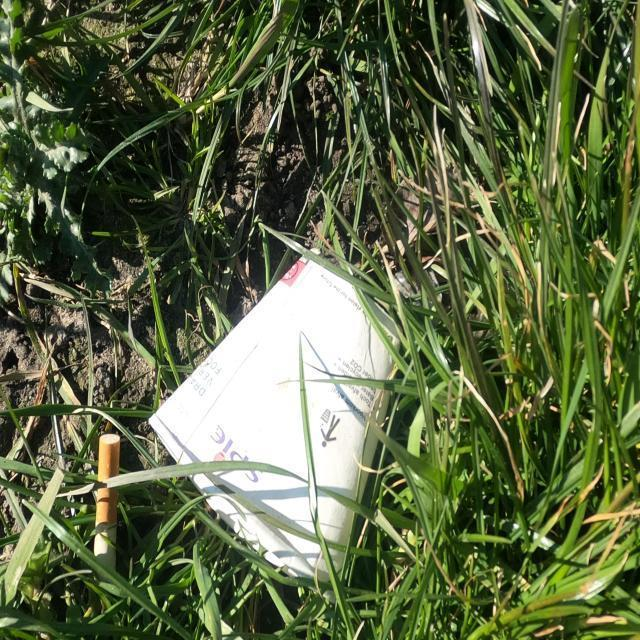Cup: (142, 240, 404, 607)
